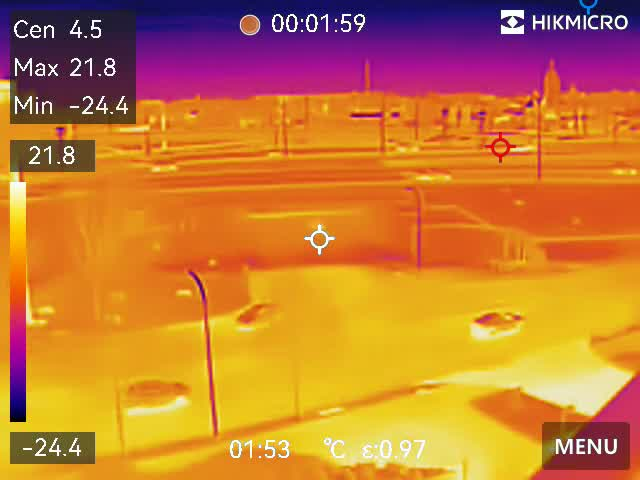largeCar: (125, 379, 195, 407)
smallCar: (468, 310, 532, 338), (235, 302, 286, 327)
vehicle: (408, 164, 452, 183), (148, 157, 180, 174)
